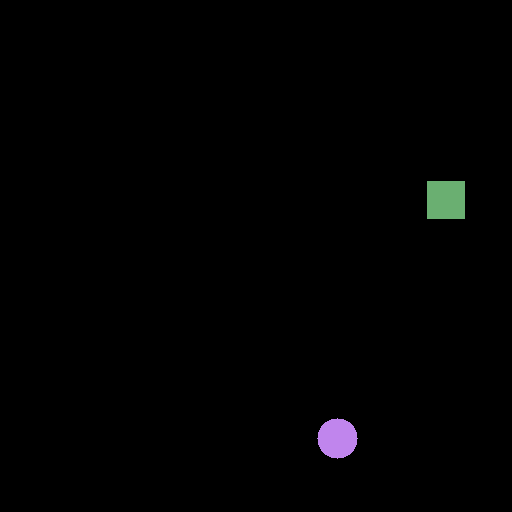circle: (314, 418, 359, 457)
square: (424, 178, 467, 222)
